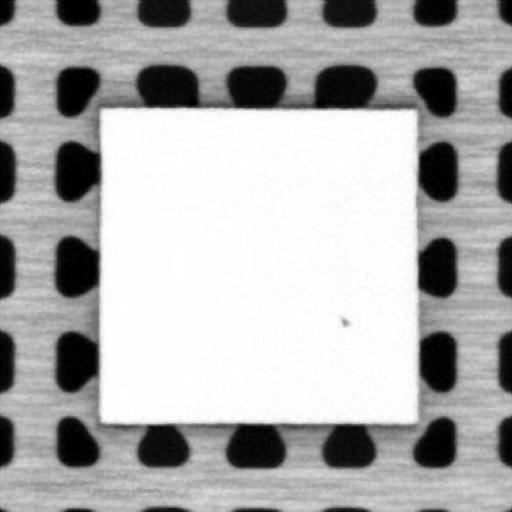DIE_INK: (334, 313, 351, 327)
